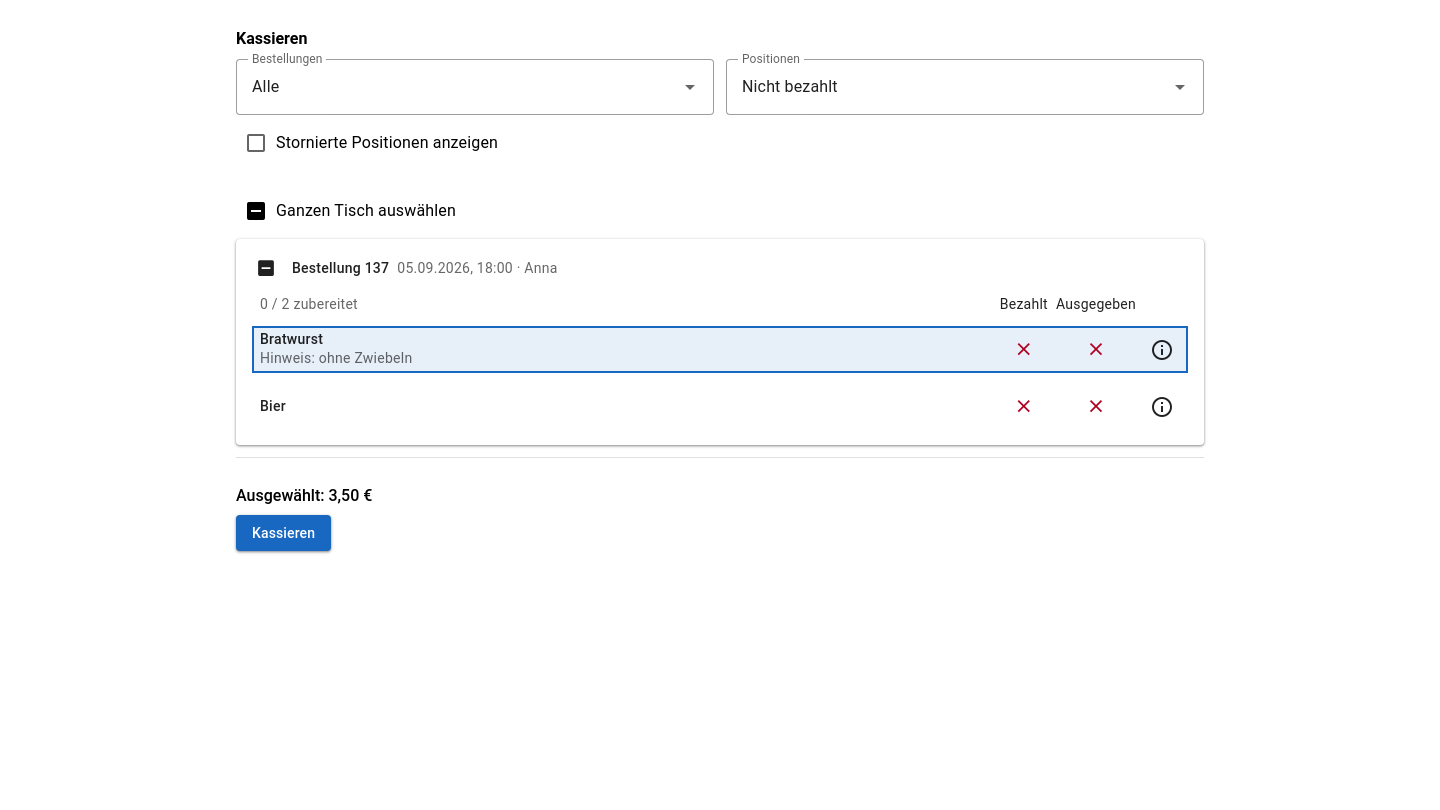
Test: the settle button under the selected total › opens the amount page with the whole selection filled in as the amount
Click the button with test id "settle" at x=284, y=533, box [236,515,331,551]
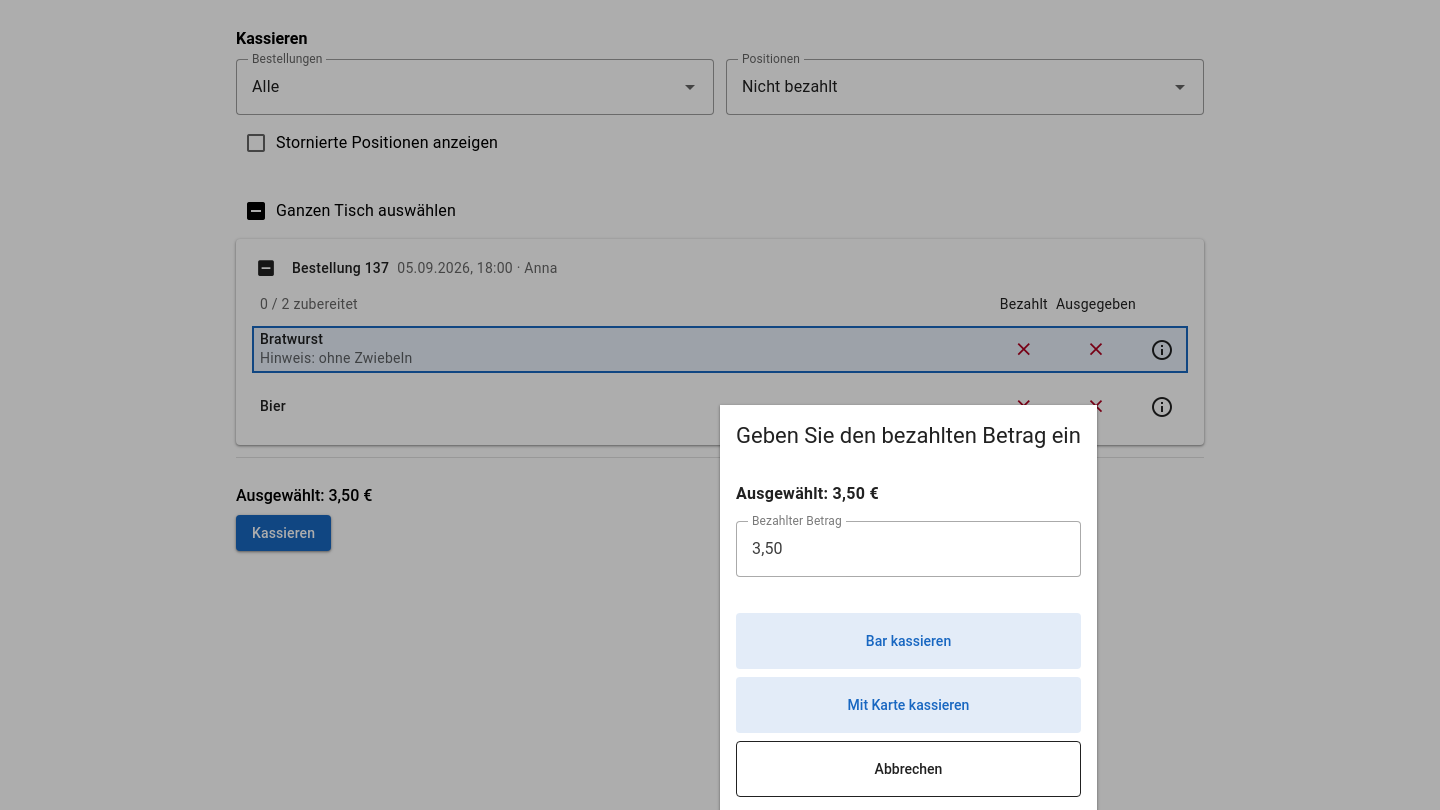
Expected: the text "Ausgewählt: 3,50 €" is shown, [736,484,879,503]
Expected: the field labelled "Bezahlter Betrag" holds "3,50", [736,521,1081,577]
